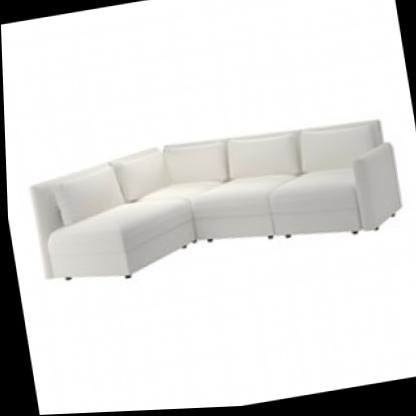Sofa: (13, 83, 409, 312)
